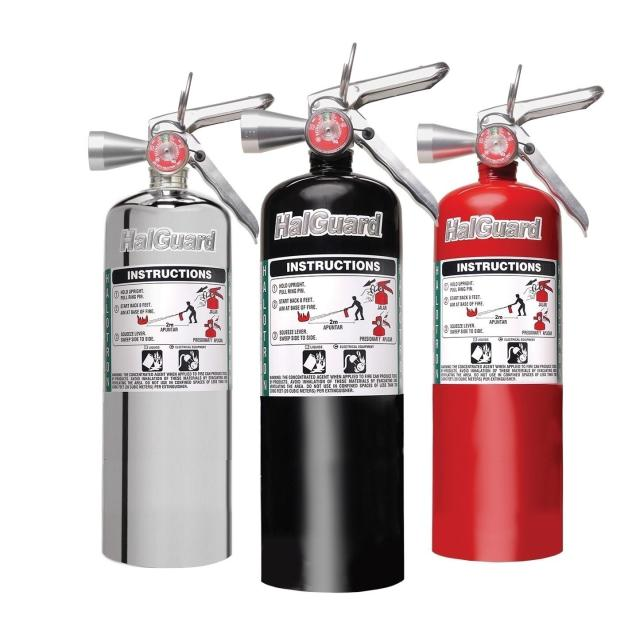fire_extinguisher: (237, 35, 449, 597), (408, 58, 610, 570), (84, 69, 278, 576)
